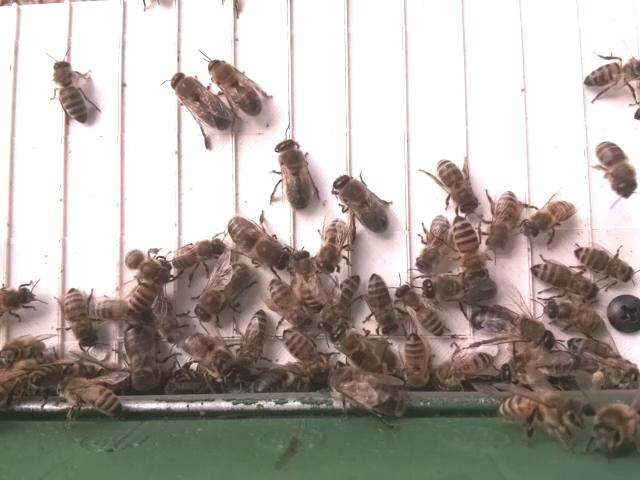Drone: (467, 302, 558, 353), (168, 69, 233, 135), (225, 211, 294, 273), (206, 54, 269, 117), (330, 171, 391, 235), (194, 260, 250, 323), (273, 135, 313, 214), (121, 320, 159, 395), (420, 273, 499, 307)
Worker: (392, 280, 446, 339), (526, 261, 602, 298), (51, 54, 89, 126), (62, 282, 101, 352), (544, 299, 610, 340), (446, 214, 490, 275), (482, 186, 522, 252), (570, 244, 636, 283), (233, 304, 272, 369), (578, 53, 640, 92), (434, 153, 476, 210), (520, 195, 578, 236), (364, 267, 396, 339), (172, 232, 228, 272), (415, 213, 449, 273)
